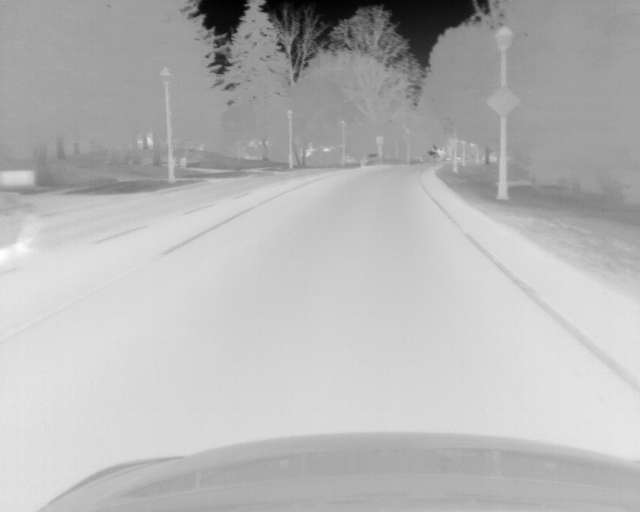car: (1, 190, 38, 257)
